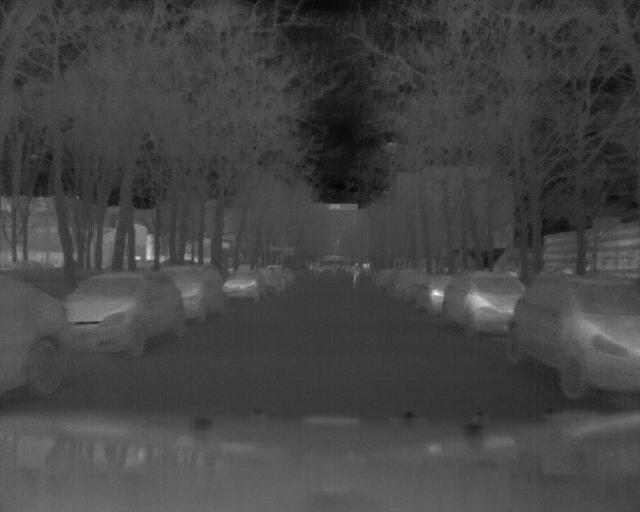car: (508, 264, 640, 398), (56, 268, 189, 359), (1, 269, 76, 397), (440, 260, 521, 333), (171, 260, 229, 320), (223, 266, 267, 303)
